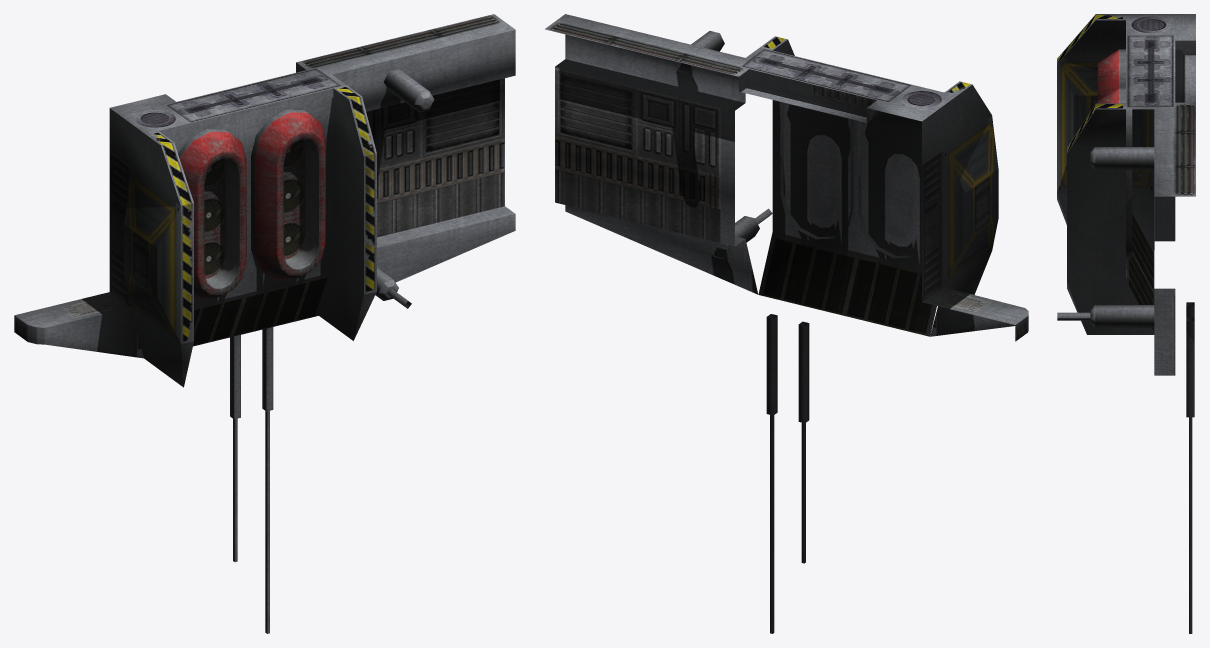
File: ML1_Basic_cap_RF.FBX
The picture shows the model from 3 angles, left to right: view 1: azimuth 30°, elevation 25°; view 2: azimuth 150°, elevation 25°; view 3: azimuth 270°, elevation 25°; orthographic projection. The views are drawn at different scales.
Parts seen in each view (by area): view 1: Mesh; view 2: Mesh; view 3: Mesh.
Part boxes in pixels (x1,y1,x2,y2): Mesh: (14, 14, 515, 633); Mesh: (545, 14, 1028, 633); Mesh: (1057, 14, 1195, 633).
Bounding box in the file's own units: 9.98 × 11.16 × 2.57.
Materials: 1 (1 with a texture image).
